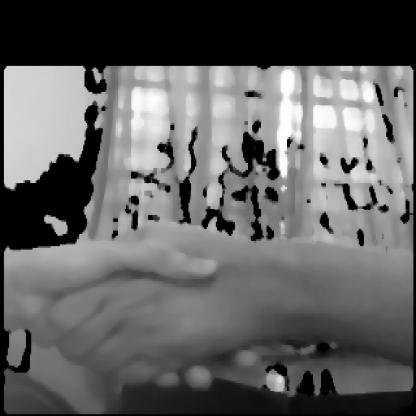handshake: (17, 199, 394, 404)
